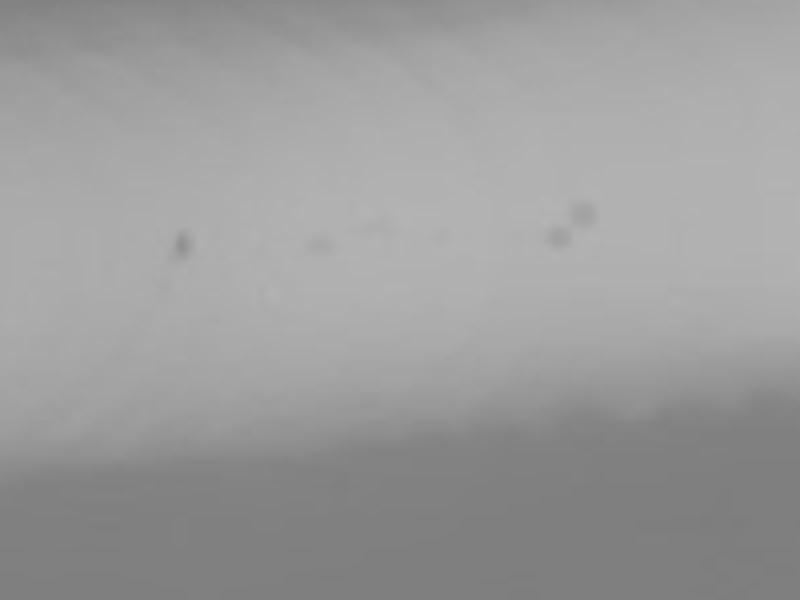defect: (572, 196, 598, 232), (168, 229, 198, 257), (544, 224, 575, 249), (312, 237, 337, 257)
